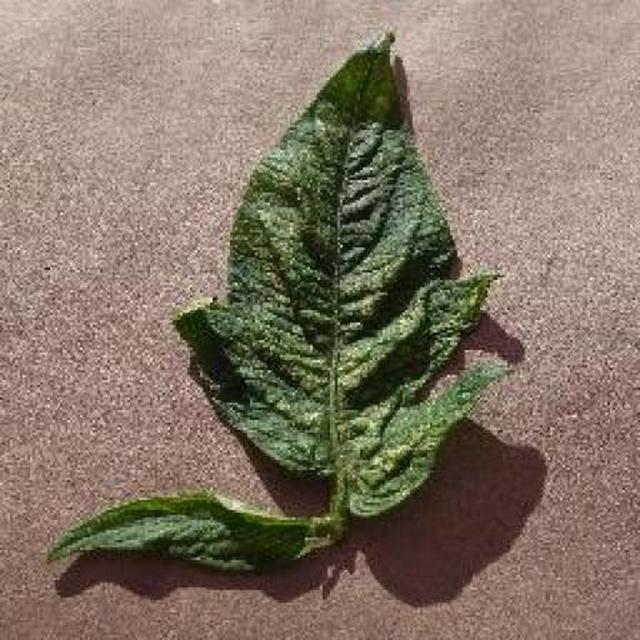Spider Mites Leaf: (250, 73, 640, 640)
